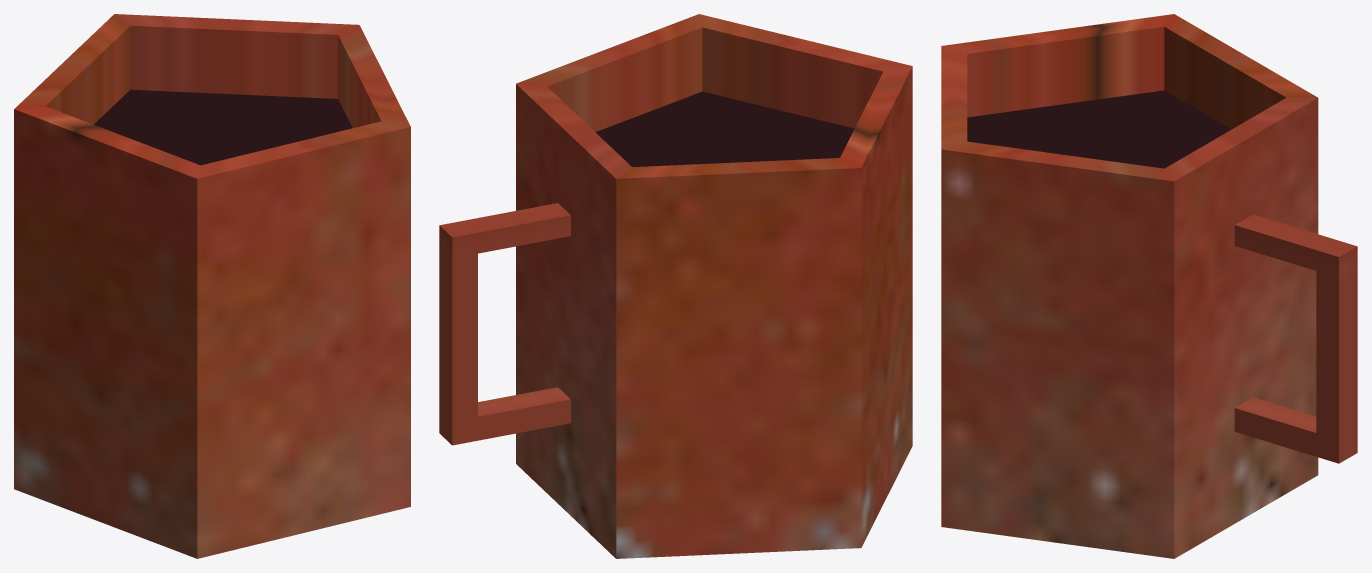
The model's file is mug 1.fbx.
3 renders of one model, left to right at view 1: azimuth 30°, elevation 25°; view 2: azimuth 150°, elevation 25°; view 3: azimuth 270°, elevation 25°, orthographic.
Visible parts, largest first — view 1: Cylinder; view 2: Cylinder; view 3: Cylinder.
Part boxes in pixels (bbox=[...]): Cylinder: bbox=[14, 14, 410, 558]; Cylinder: bbox=[439, 14, 912, 558]; Cylinder: bbox=[941, 14, 1357, 558].
Bounding box in the file's own units: 18.88 × 19.85 × 19.83.
2 materials, 1 textured.
